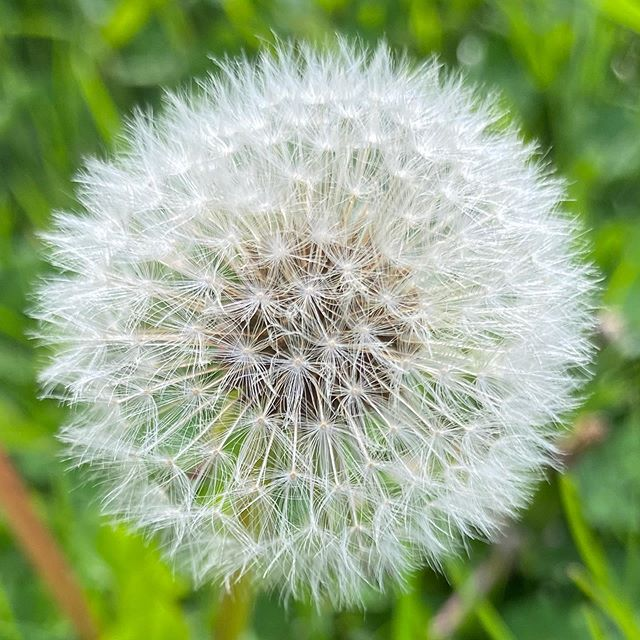flowers: (2, 1, 606, 594)
